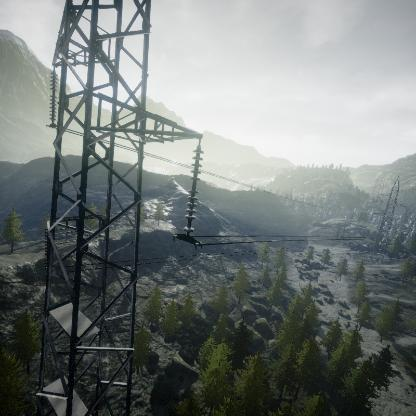insulator: (183, 143, 206, 235), (47, 69, 58, 123)
